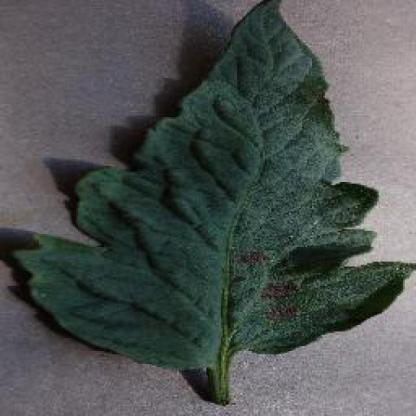Tomato_Blight: (15, 0, 415, 366)
